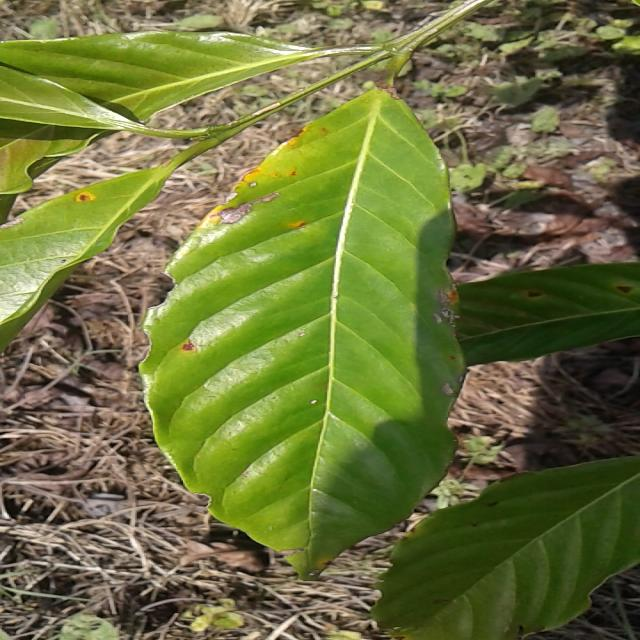Enfermedad-Roya: (139, 88, 468, 572)
